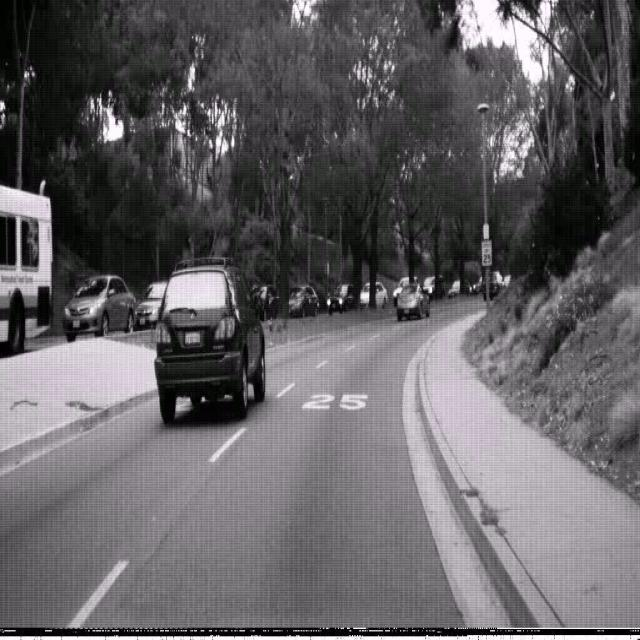speedLimit25: (481, 239, 492, 266)
